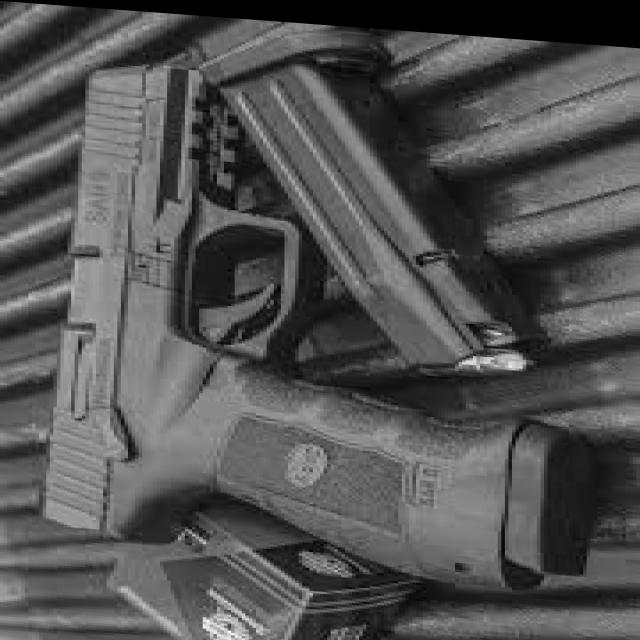handgun: (43, 62, 596, 586)
